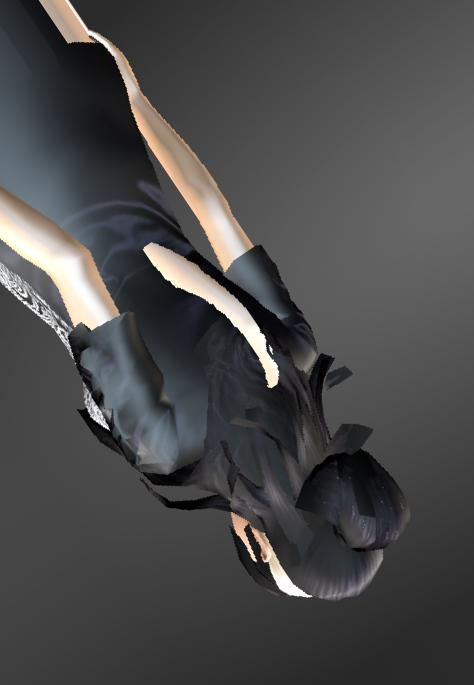clip: (139, 238, 226, 289)
